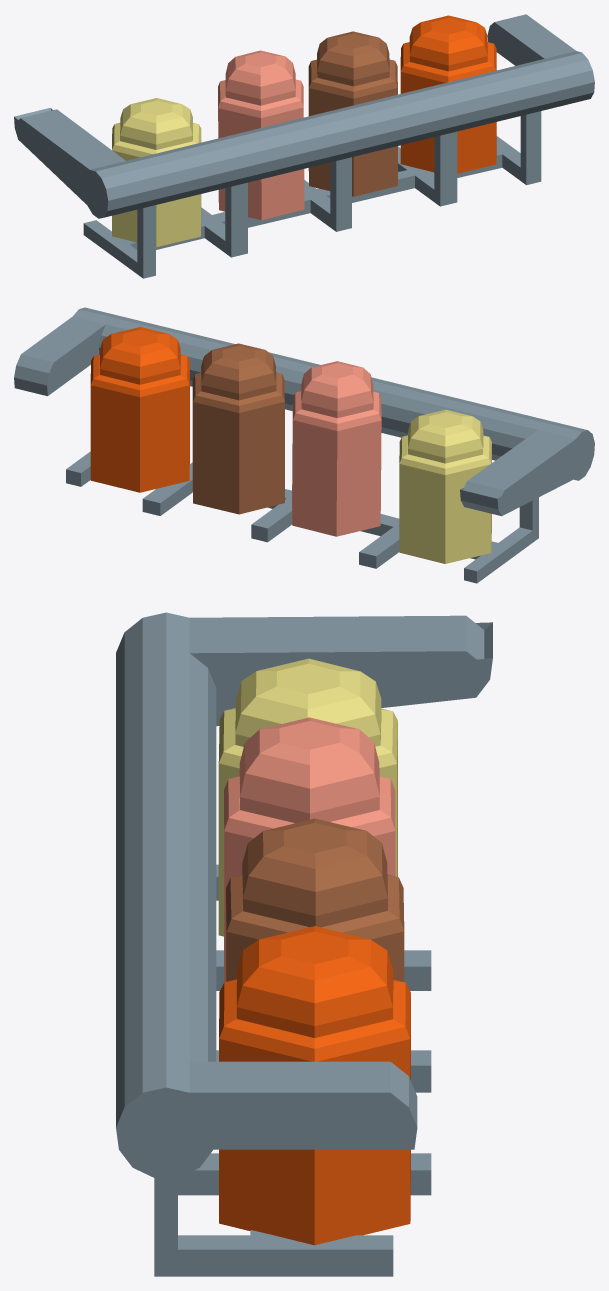
The model's file is Spices.fbx.
3 views of the same model, one above another, from view 1: azimuth 30°, elevation 25°; view 2: azimuth 150°, elevation 25°; view 3: azimuth 270°, elevation 25° (orthographic). The views are drawn at different scales.
Visible parts, largest first — view 1: Cylinder.001; view 2: Cylinder.001; view 3: Cylinder.001.
Part boxes in pixels (bbox=[...]): Cylinder.001: bbox=[14, 14, 594, 278]; Cylinder.001: bbox=[14, 307, 594, 583]; Cylinder.001: bbox=[116, 612, 492, 1276].
Size of the model in its own units: 0.3806 by 0.1143 by 0.1277.
